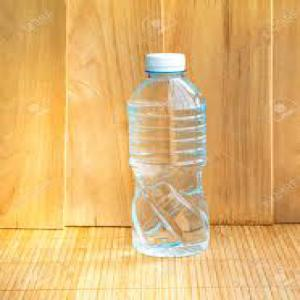Plastic-bottle: (127, 54, 209, 258)
